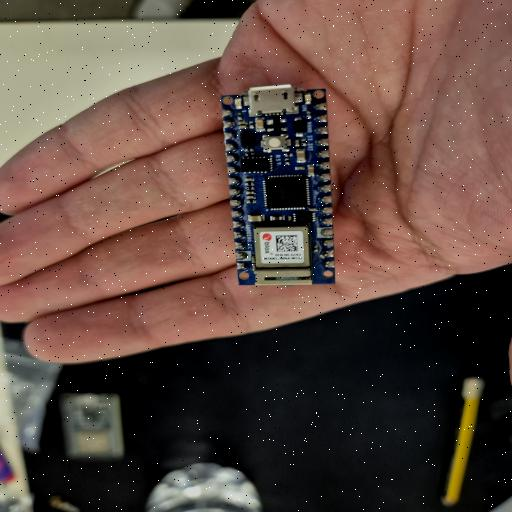arduino-nano-iot-33: (226, 89, 336, 285)
